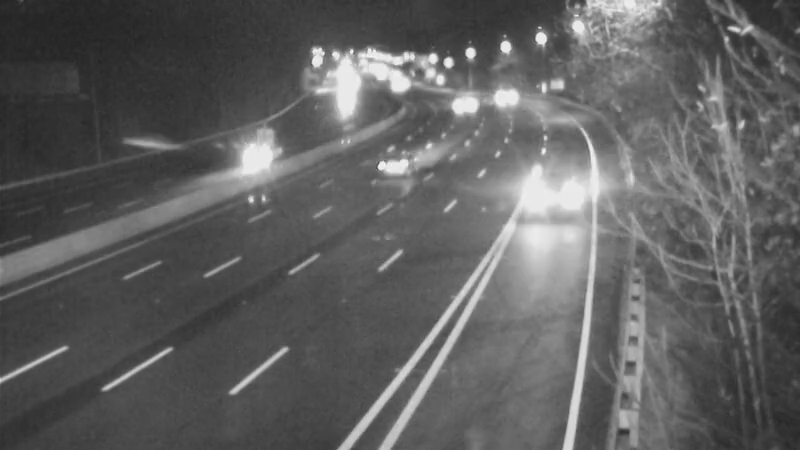vehicle: (358, 122, 438, 202), (519, 151, 599, 231), (213, 117, 293, 197), (473, 72, 523, 122), (433, 77, 483, 127)
